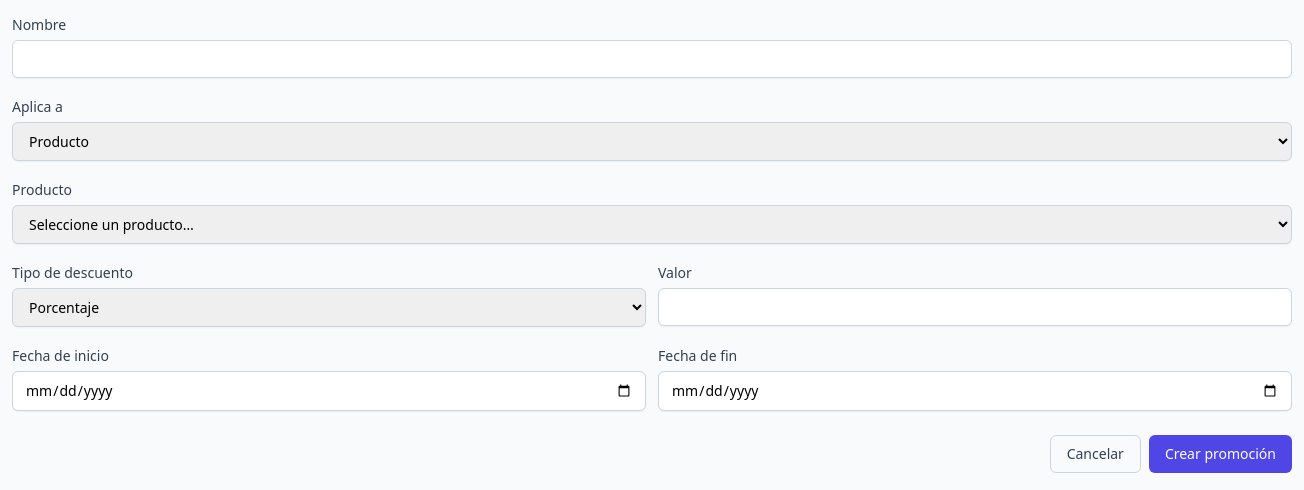
Test: PromotionForm › cambia el selector cuando el objetivo pasa a categoría
The width and height of the screenshot is (1304, 490).
Select "Categoría" in the dropdown labelled "Aplica a" at (652, 142), box [12,122,1292,161]
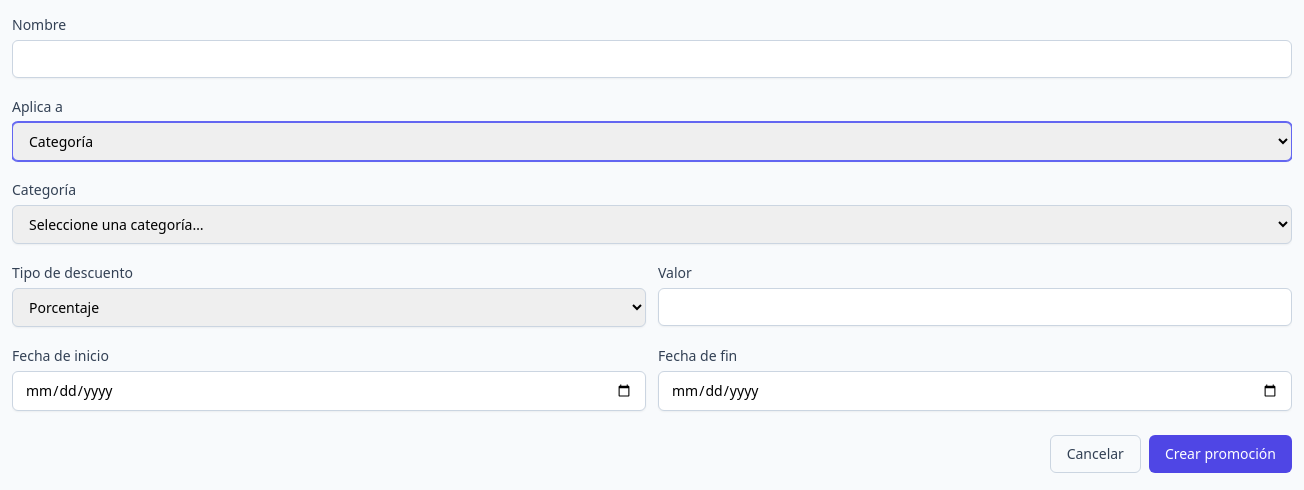
Now the dropdown labelled "Categoría" is shown, box [12,205,1292,244]
Now the label labelled "Producto" is gone
